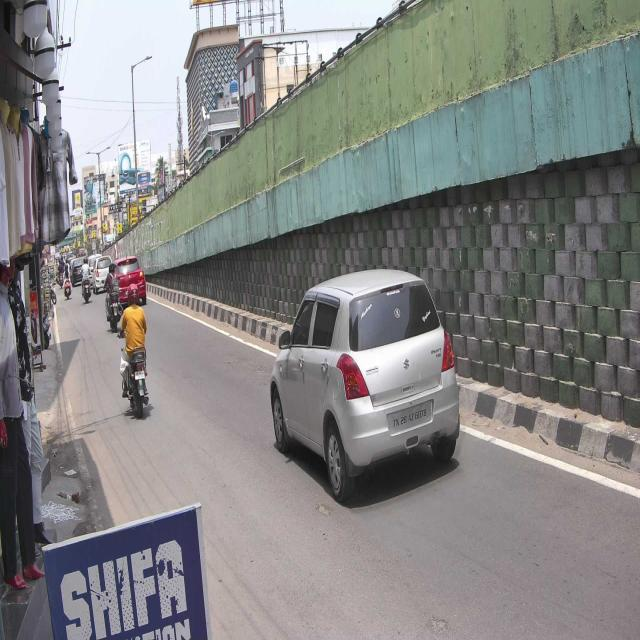single_rider: (114, 284, 152, 421)
